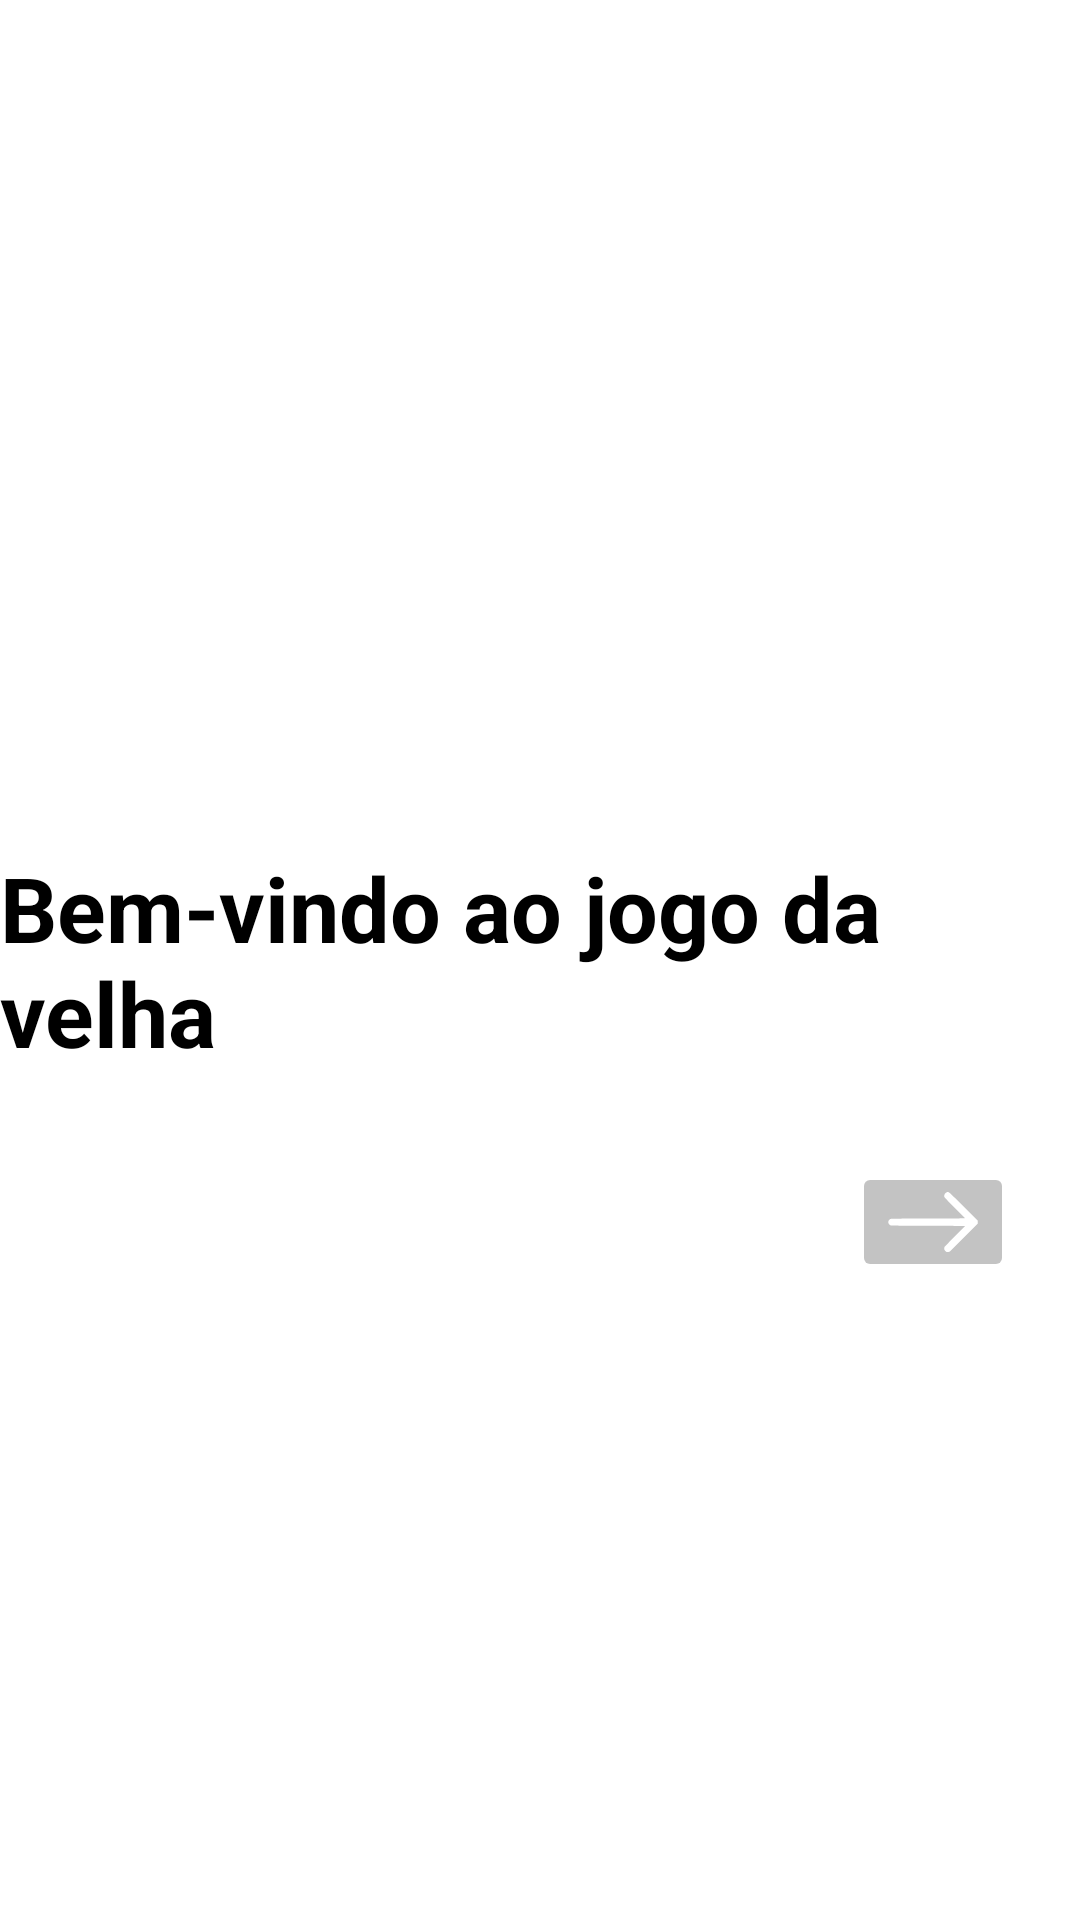

Named icons in this screenshot (1080 × 1920) and their centers, (x=x, y=y):
Próxima: (x=933, y=1222)
